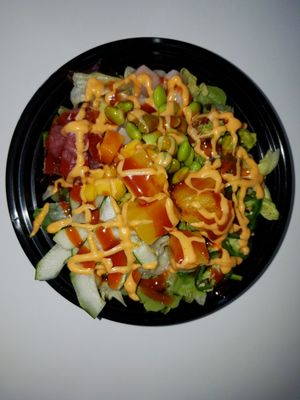curry: (178, 69, 230, 112)
